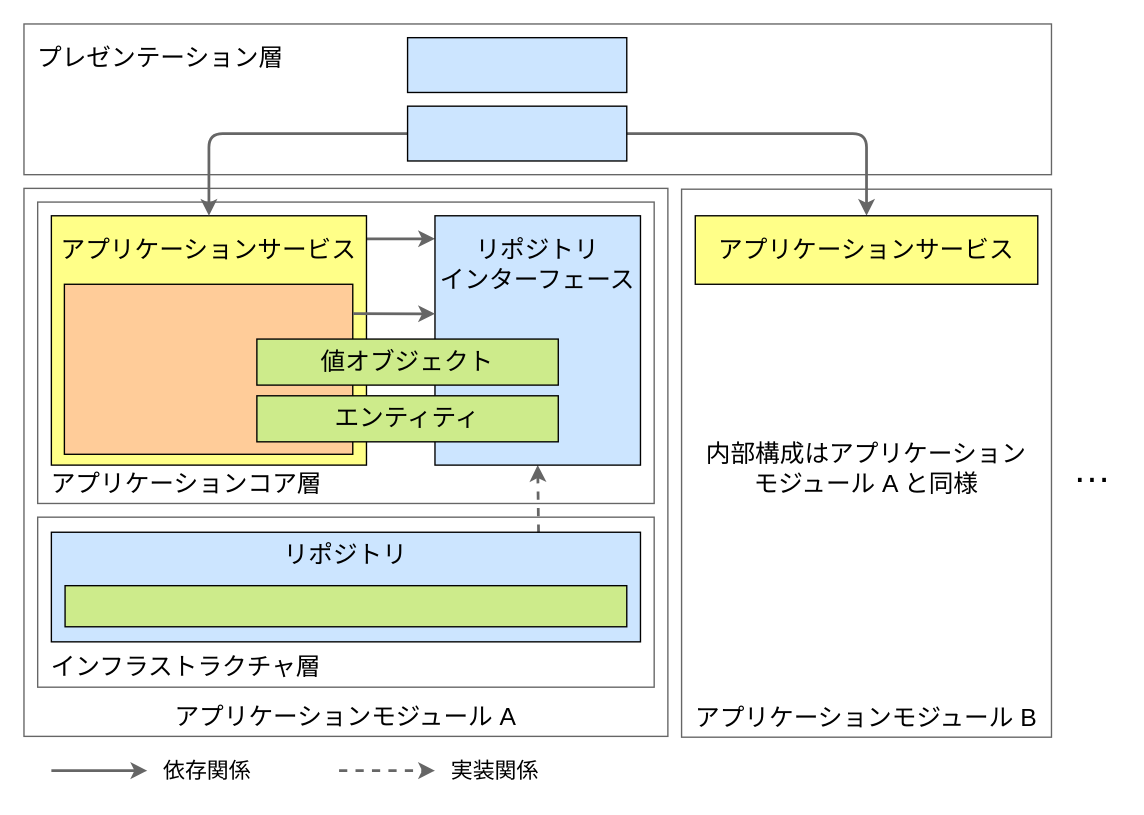
Some shapes in this 1144 by 815 pixel diagram are drawn without their labels. The centre of each missing label's shape, as x and y in pixels:
APIモデル: pixel 516 64
コントローラー: pixel 516 133
テーブルエンティティ: pixel 345 605
ドメインサービス: pixel 208 368
